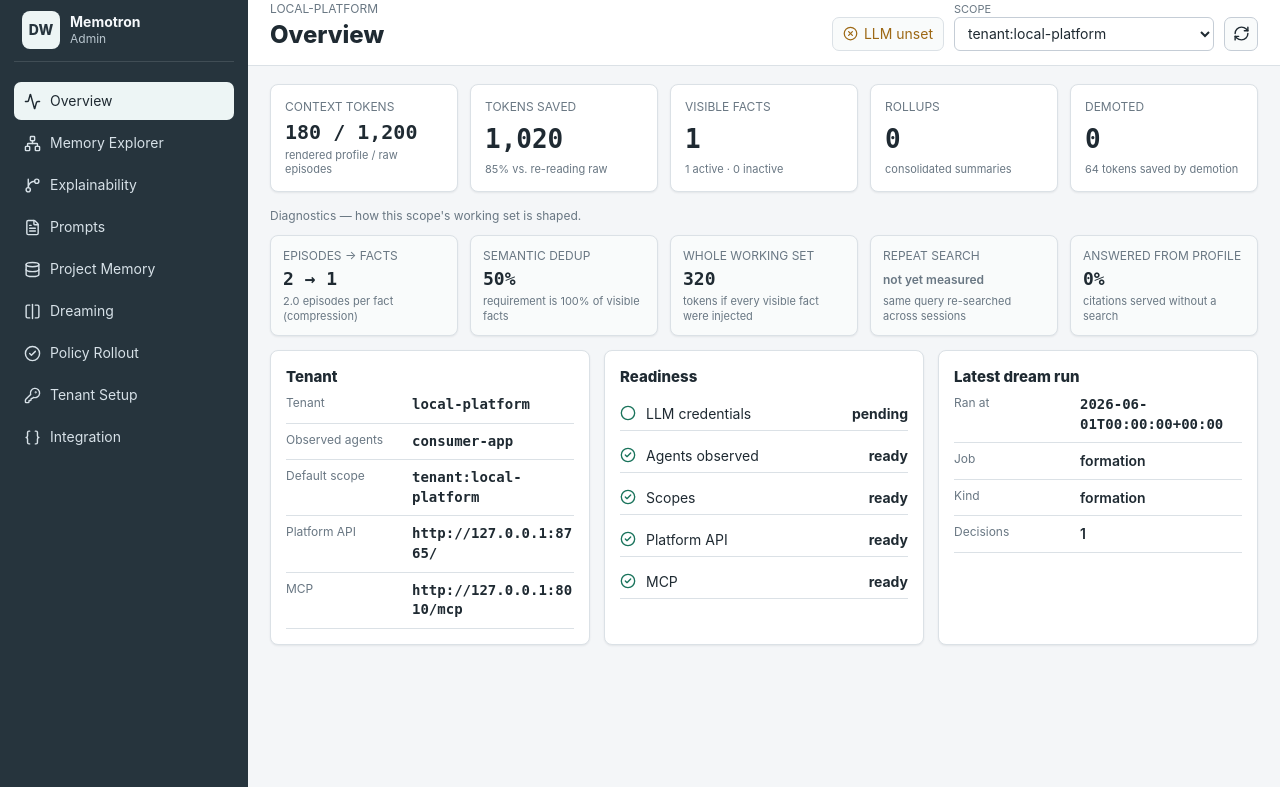
Scenario: Memotron admin UI › renders an archive relationship as a triple, degraded to plain names when the payload has no entity nodes
Click the button "Dreaming" at (124, 311), box x1=14 y1=292 x2=234 y2=330
(page scrolled)
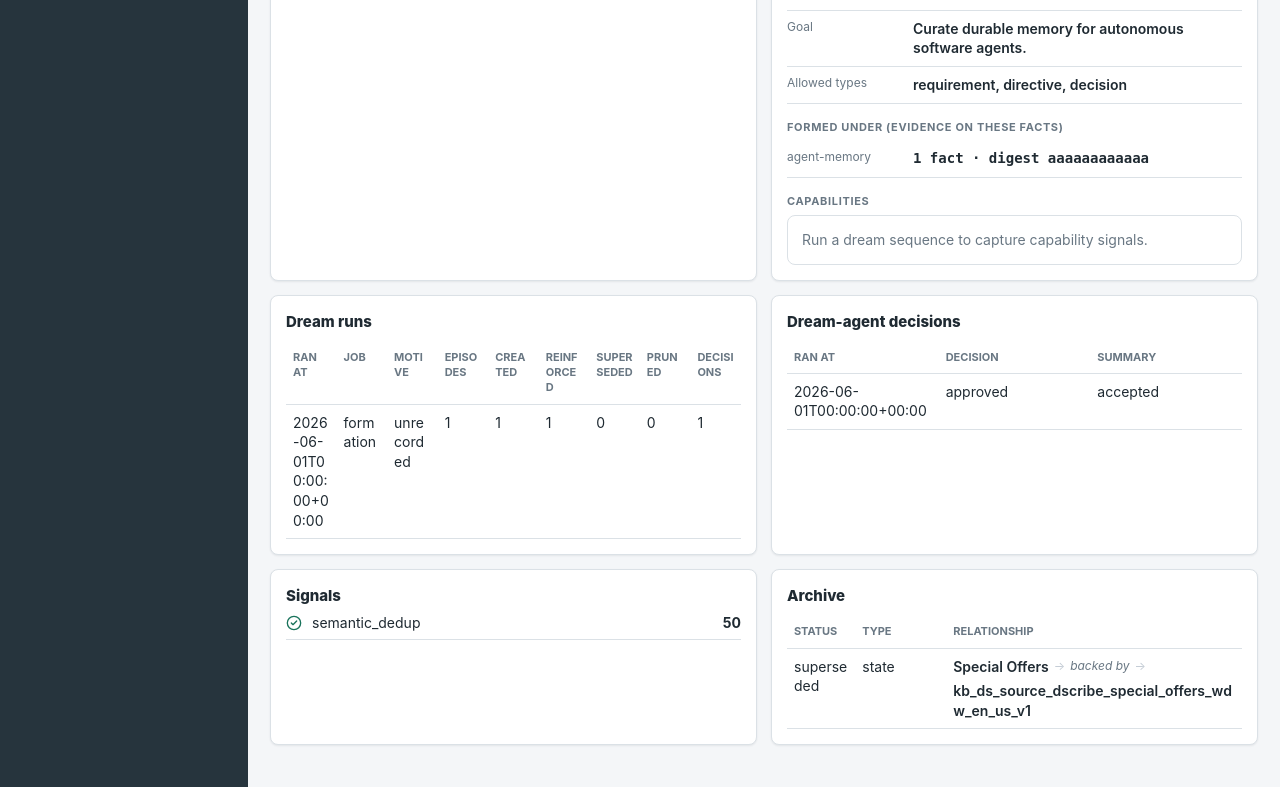
Now the text "Special Offers" is shown, box x1=953 y1=657 x2=1049 y2=676
Now the text "backed by" is shown, box x1=1070 y1=658 x2=1130 y2=675
Now the text "kb_ds_source_dscribe_special_offers_wdw_en_us_v1" is shown, box x1=953 y1=681 x2=1235 y2=720
